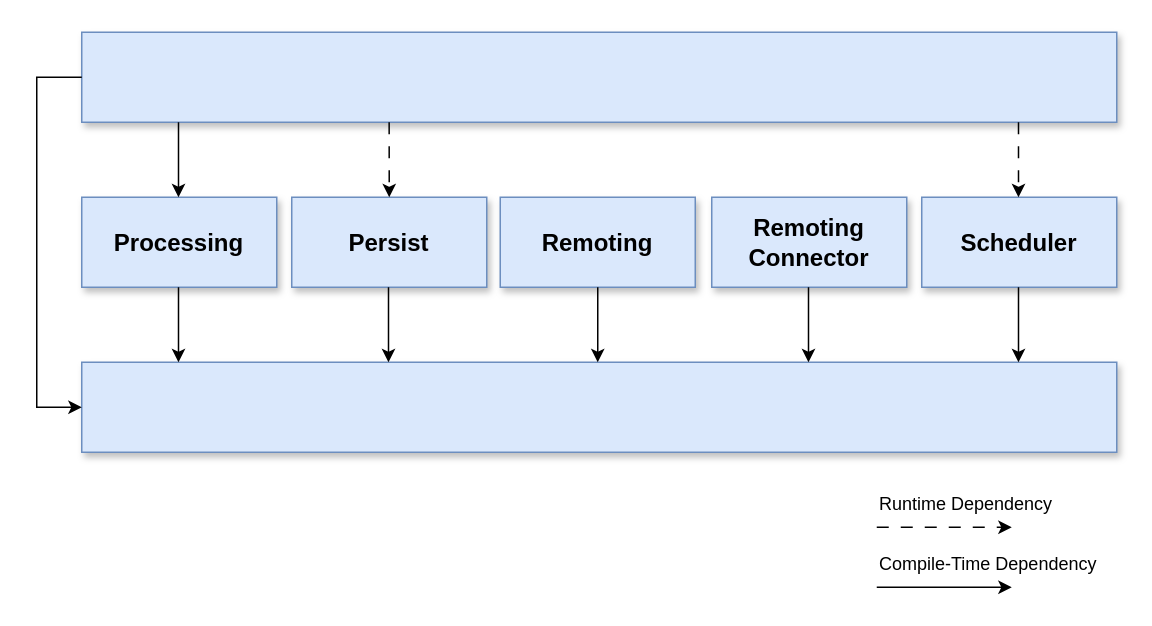
Some shapes in this 1152 by 626 pixel diagram are drawn without their labels. Each missing label, with the centre of its shape:
"API" goes at point (600, 409).
"Core" goes at point (600, 79).
